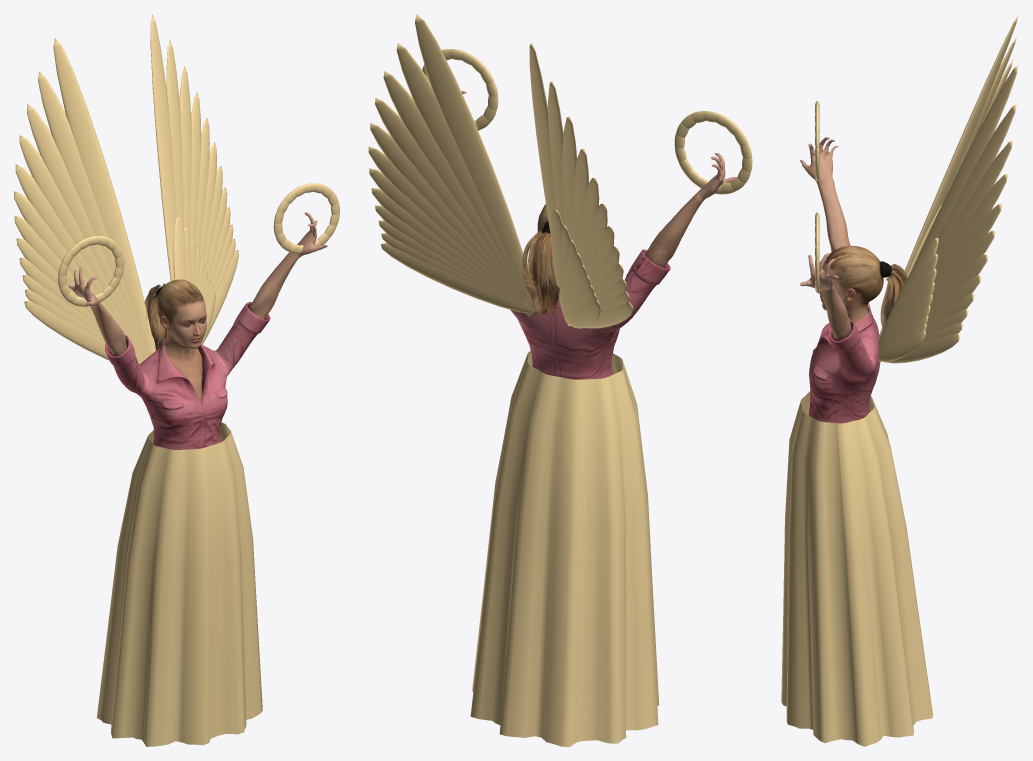
File: victory.glb
3 renders of one model, left to right at view 1: azimuth 30°, elevation 25°; view 2: azimuth 150°, elevation 25°; view 3: azimuth 270°, elevation 25°, orthographic. The views are drawn at different scales.
Parts seen in each view (by area): view 1: victory; view 2: victory; view 3: victory.
Boxes of the visible parts, bbox=[...] form: victory: bbox=[14, 14, 339, 746]; victory: bbox=[368, 14, 752, 746]; victory: bbox=[781, 14, 1018, 746].
Bounding box in the file's own units: 1.18 × 2.53 × 0.8127.
4 materials, 3 textured.
